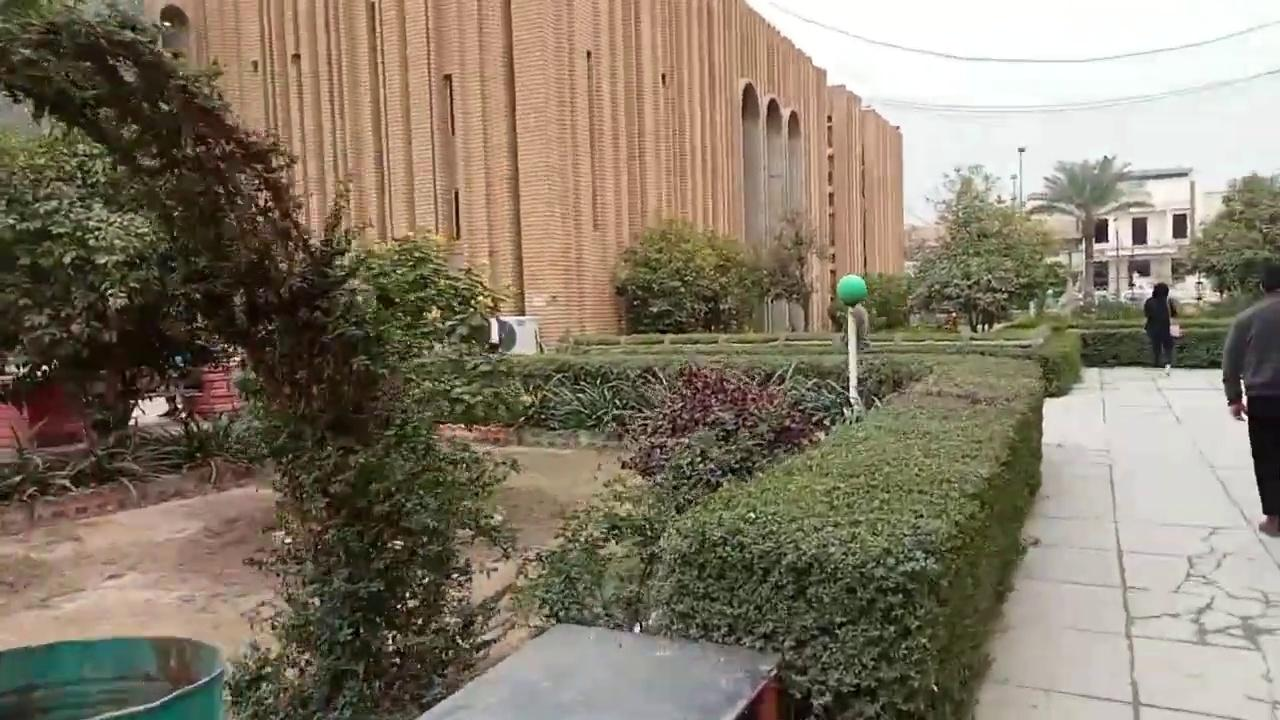person: (1221, 261, 1279, 536), (1143, 281, 1178, 372)
tree: (0, 0, 524, 717), (0, 0, 381, 455), (903, 166, 1063, 333), (1026, 153, 1143, 309), (611, 216, 753, 335), (1180, 169, 1279, 301), (768, 207, 832, 332)
